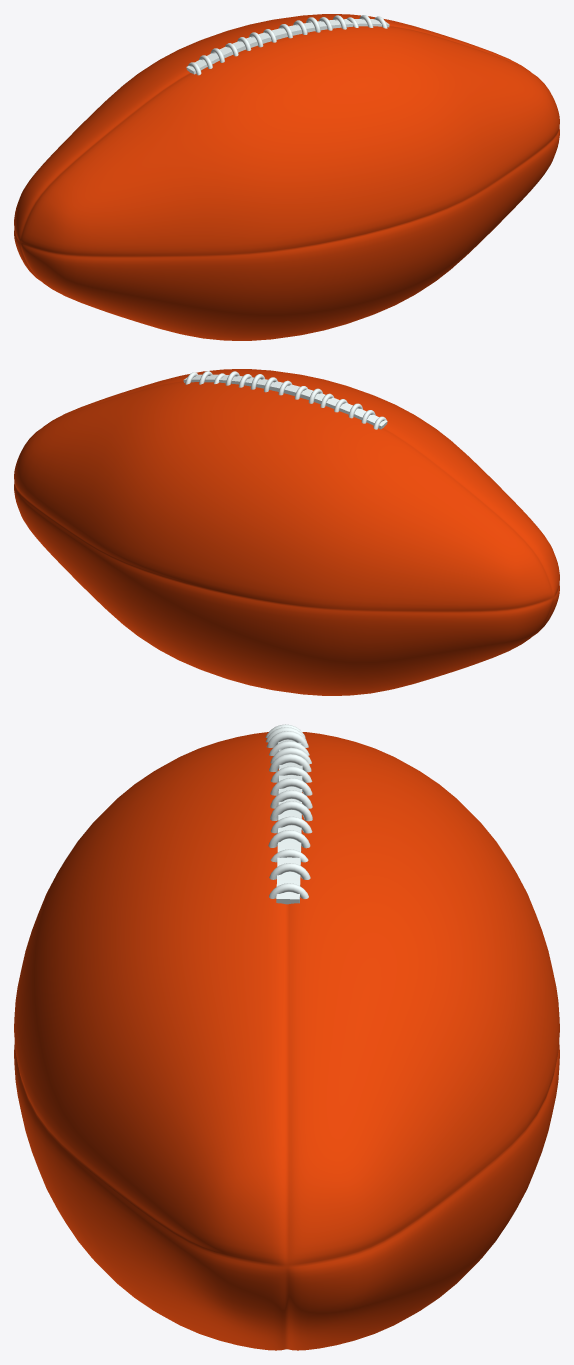
3 views of the same model, one above another, from view 1: azimuth 30°, elevation 25°; view 2: azimuth 150°, elevation 25°; view 3: azimuth 270°, elevation 25° (orthographic). The views are drawn at different scales.
Visible parts, largest first — view 1: トーラス.008; view 2: トーラス.008; view 3: トーラス.008.
Boxes of the visible parts, bbox=[...] form: トーラス.008: bbox=[14, 14, 559, 340]; トーラス.008: bbox=[14, 369, 559, 695]; トーラス.008: bbox=[14, 724, 559, 1350].
Size of the model in its own units: 1.11 by 0.5856 by 0.5679.
